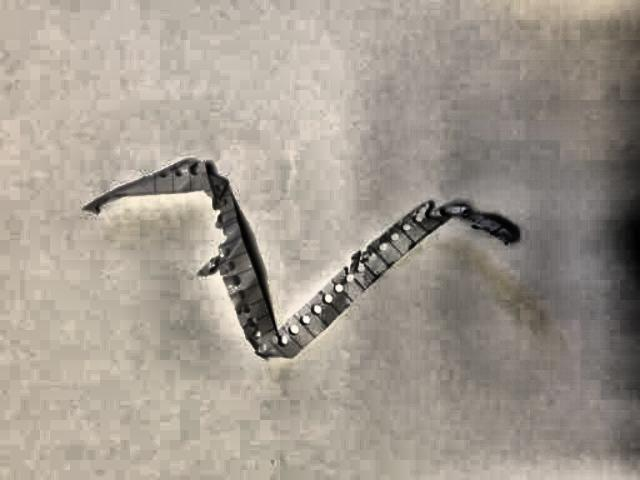Paper: (85, 149, 520, 395)
